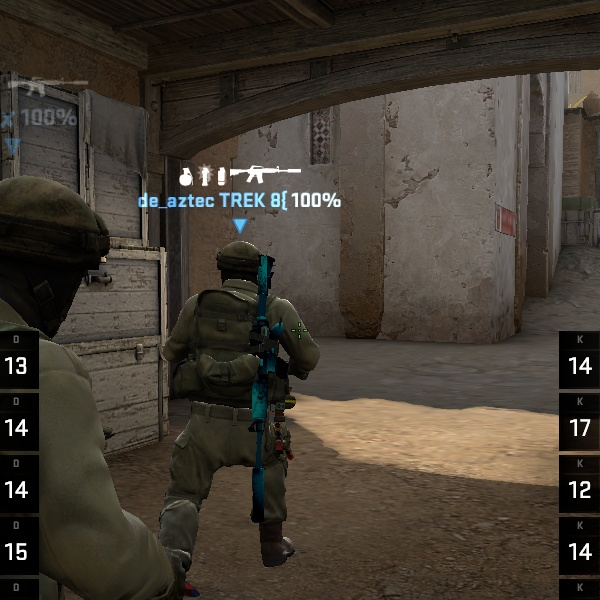ct_body: (147, 231, 337, 575)
ct_head: (205, 235, 282, 307)
